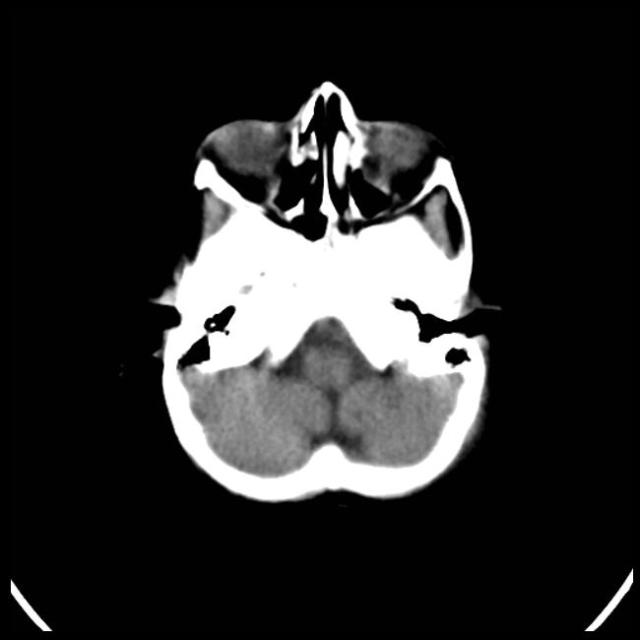lesion: (144, 77, 505, 507)
